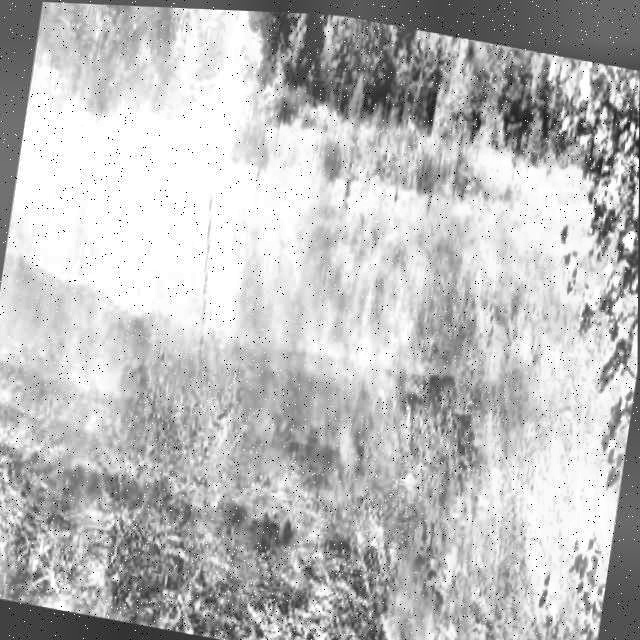Fire: (360, 305, 547, 640), (314, 299, 420, 533)
Smoke: (0, 0, 363, 520)
